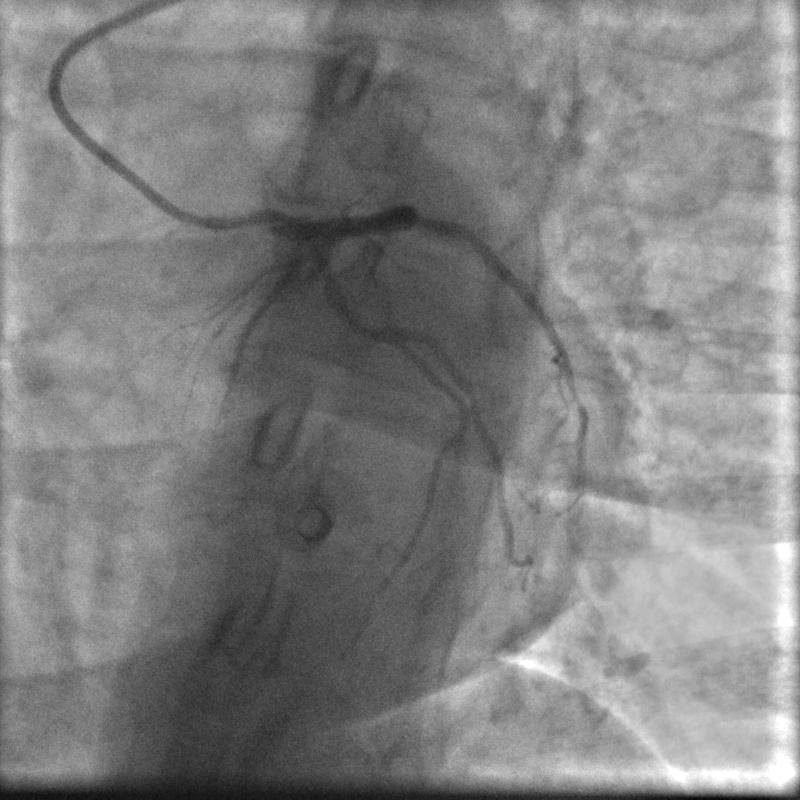Stenosis: (346, 305, 387, 348)
